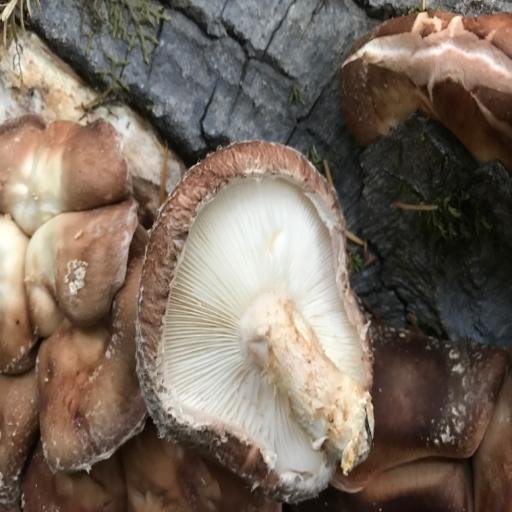Shiitake Mushroom: (72, 130, 401, 512)
